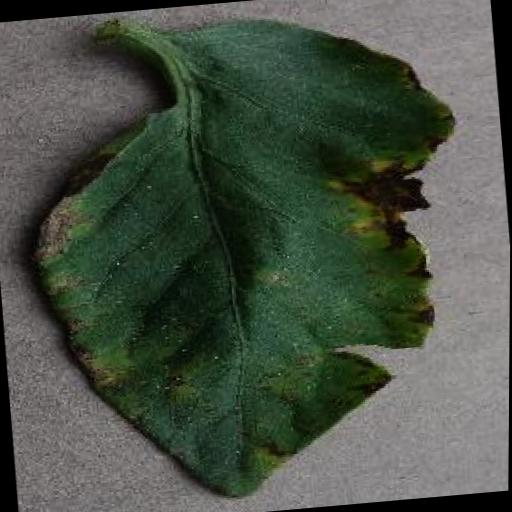Bacterial Spot: (3, 0, 496, 512)
